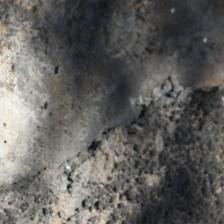Crack: (16, 80, 115, 143), (89, 60, 160, 112)
